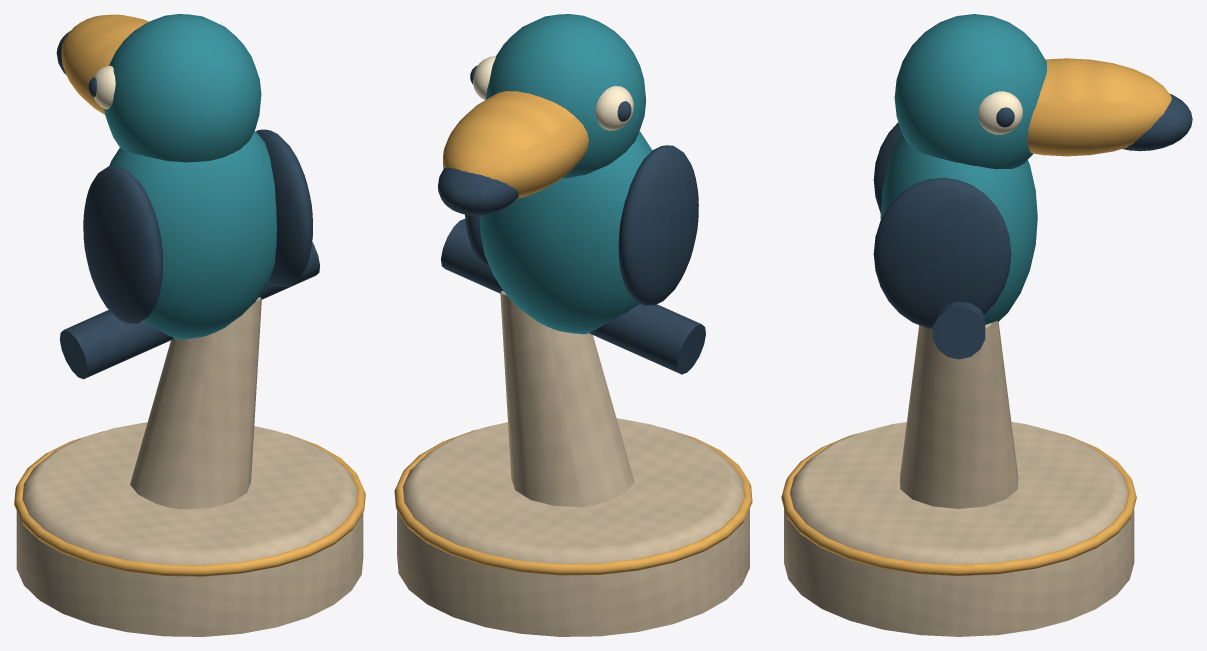
The model's file is jungle_temple.glb.
The picture shows the model from 3 angles, left to right: view 1: azimuth 30°, elevation 25°; view 2: azimuth 150°, elevation 25°; view 3: azimuth 270°, elevation 25°; orthographic projection.
Visible parts, largest first — view 1: jungle_temple_lod0; view 2: jungle_temple_lod0; view 3: jungle_temple_lod0.
Part boxes in pixels (left/top/right/bottom): jungle_temple_lod0: left=14, top=14, right=365, bottom=636; jungle_temple_lod0: left=394, top=14, right=752, bottom=636; jungle_temple_lod0: left=781, top=14, right=1192, bottom=636.
Size of what is drawn, in the model's own units: 5.79 by 9.73 by 6.69.
Materials: 5 (5 with a texture image).
